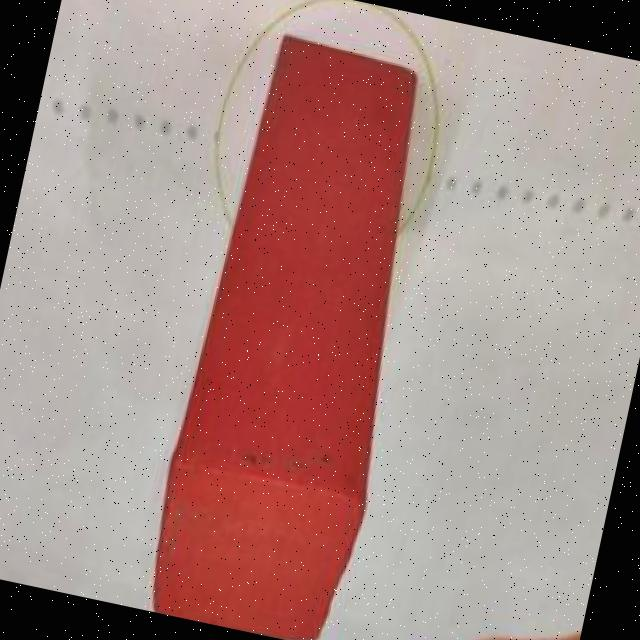redbox: (133, 29, 454, 640)
